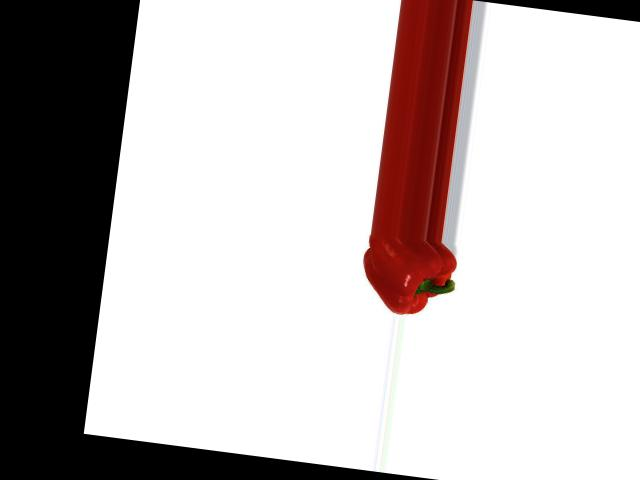bell_pepper: (346, 231, 473, 322)
